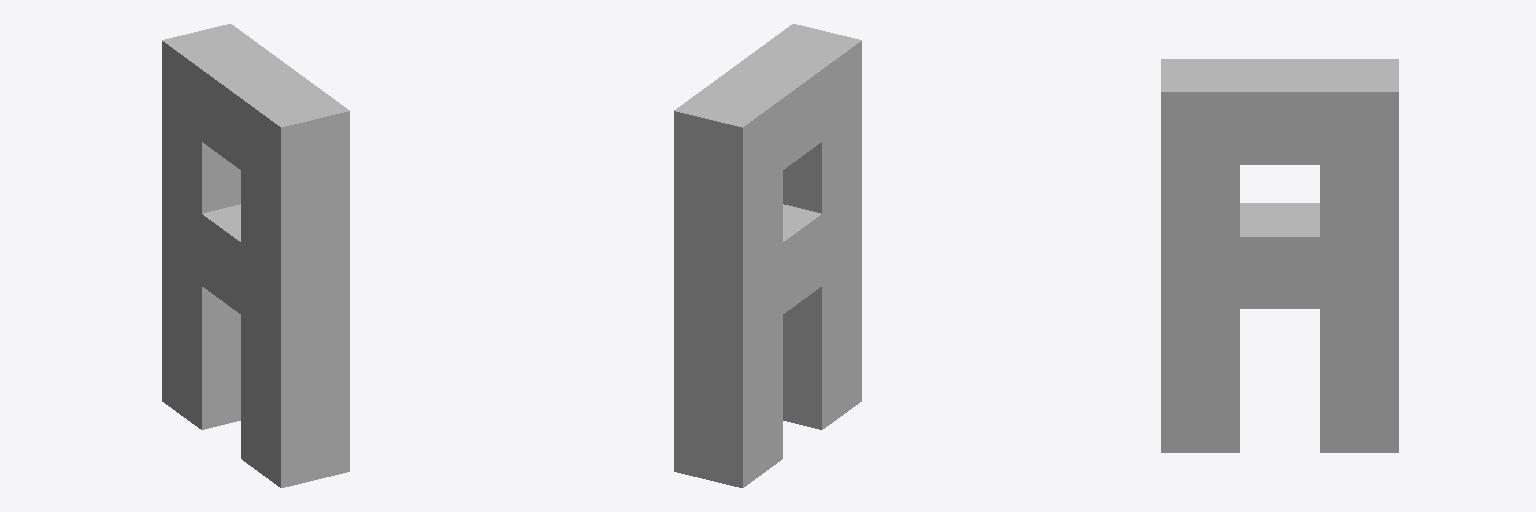
The model's file is character_a.obj.
3 views of the same model, side by side, from view 1: azimuth 30°, elevation 25°; view 2: azimuth 150°, elevation 25°; view 3: azimuth 270°, elevation 25° (orthographic).
Visible parts, largest first — view 1: Cube.001; view 2: Cube.001; view 3: Cube.001.
Part boxes in pixels (left/top/right/bottom): Cube.001: left=162, top=24, right=349, bottom=487; Cube.001: left=674, top=24, right=861, bottom=487; Cube.001: left=1161, top=59, right=1398, bottom=452.
Size of the model in its own units: 6 by 30 by 18.